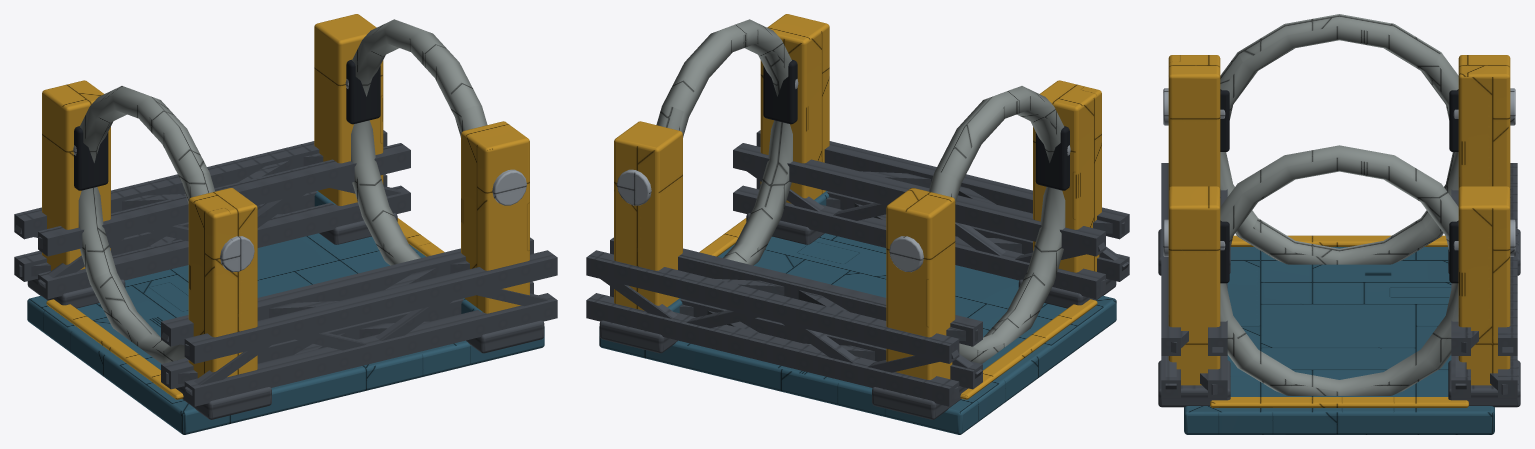
File: escape_capsule_cradle_lod0.glb
3 views of the same model, side by side, from view 1: azimuth 30°, elevation 25°; view 2: azimuth 150°, elevation 25°; view 3: azimuth 270°, elevation 25° (orthographic).
Parts seen in each view (by area): view 1: LOD0_Mechanical, LOD0_Warning, LOD0_Armor, LOD0_Hull, LOD0_MechanicalDark, LOD0_BrushedMetal; view 2: LOD0_Mechanical, LOD0_Warning, LOD0_Armor, LOD0_Hull, LOD0_MechanicalDark, LOD0_BrushedMetal; view 3: LOD0_Warning, LOD0_Armor, LOD0_Hull, LOD0_Mechanical, LOD0_MechanicalDark, LOD0_BrushedMetal.
Boxes of the visible parts, x1,y1,x2,y2 form: LOD0_Mechanical: [14, 130, 557, 419]; LOD0_Warning: [42, 14, 529, 399]; LOD0_Armor: [27, 191, 544, 434]; LOD0_Hull: [78, 19, 487, 363]; LOD0_MechanicalDark: [74, 59, 380, 190]; LOD0_BrushedMetal: [73, 79, 526, 272]; LOD0_Mechanical: [586, 130, 1129, 419]; LOD0_Warning: [614, 14, 1101, 399]; LOD0_Armor: [599, 191, 1116, 434]; LOD0_Hull: [656, 19, 1065, 363]; LOD0_MechanicalDark: [763, 59, 1069, 190]; LOD0_BrushedMetal: [617, 79, 1070, 272]; LOD0_Warning: [1168, 55, 1510, 407]; LOD0_Armor: [1184, 247, 1494, 434]; LOD0_Hull: [1220, 14, 1458, 395]; LOD0_Mechanical: [1158, 163, 1520, 407]; LOD0_MechanicalDark: [1220, 89, 1458, 283]; LOD0_BrushedMetal: [1163, 88, 1515, 256].
Size of the model in its own units: 4.04 by 2.87 by 3.5.
6 materials, 6 textured.
